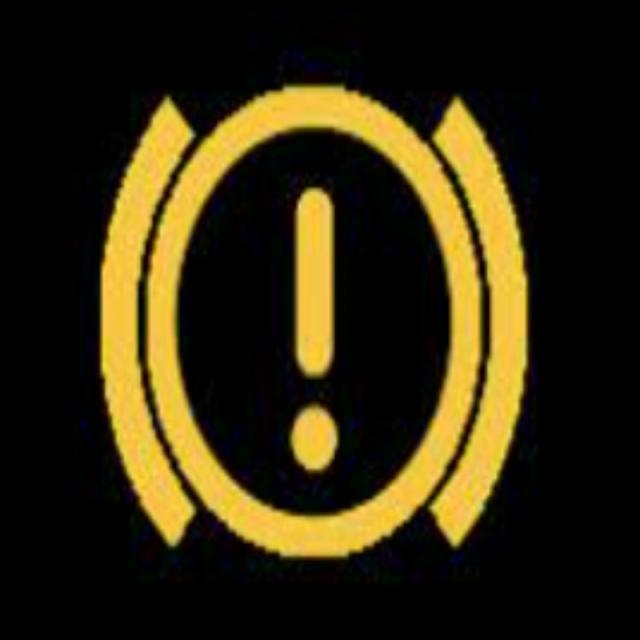HandBrakeWarning: (97, 80, 528, 561)
